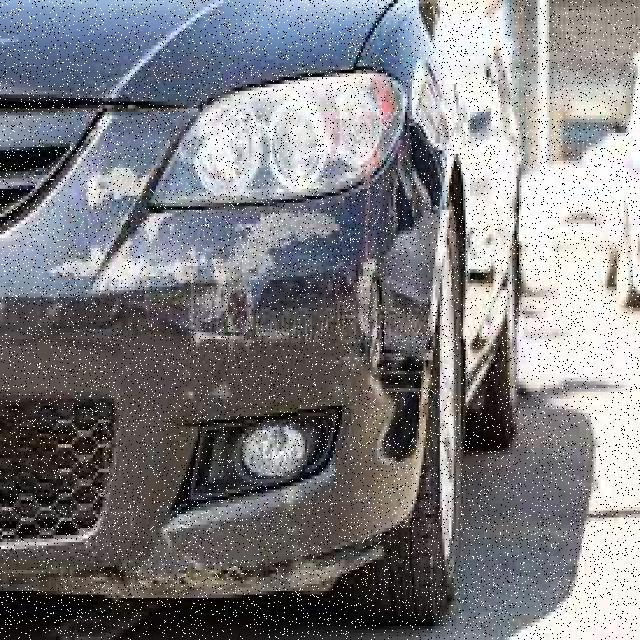front-bumper-dent: (0, 203, 402, 584)
